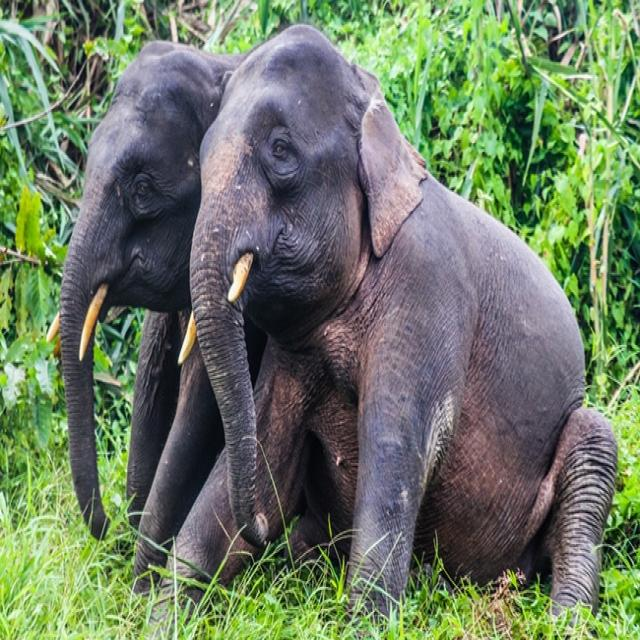Elephant: (177, 19, 639, 637), (23, 6, 210, 588)
